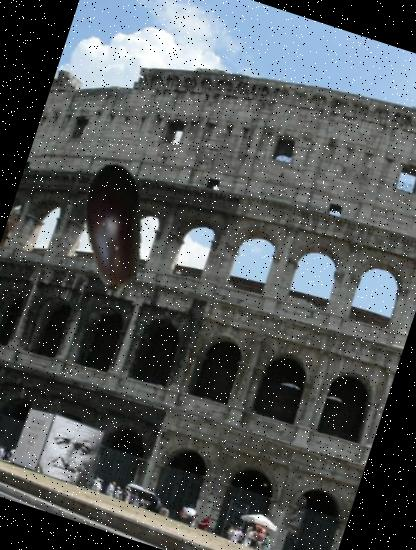Eggplant: (29, 144, 198, 312)
